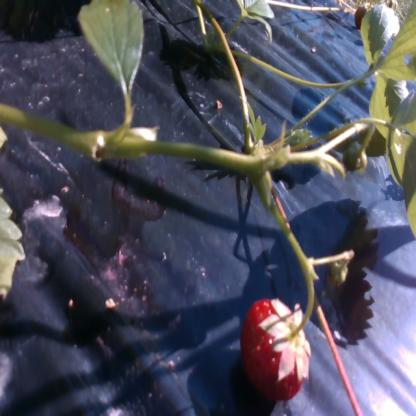ripe: (231, 294, 316, 401), (356, 1, 368, 29)
